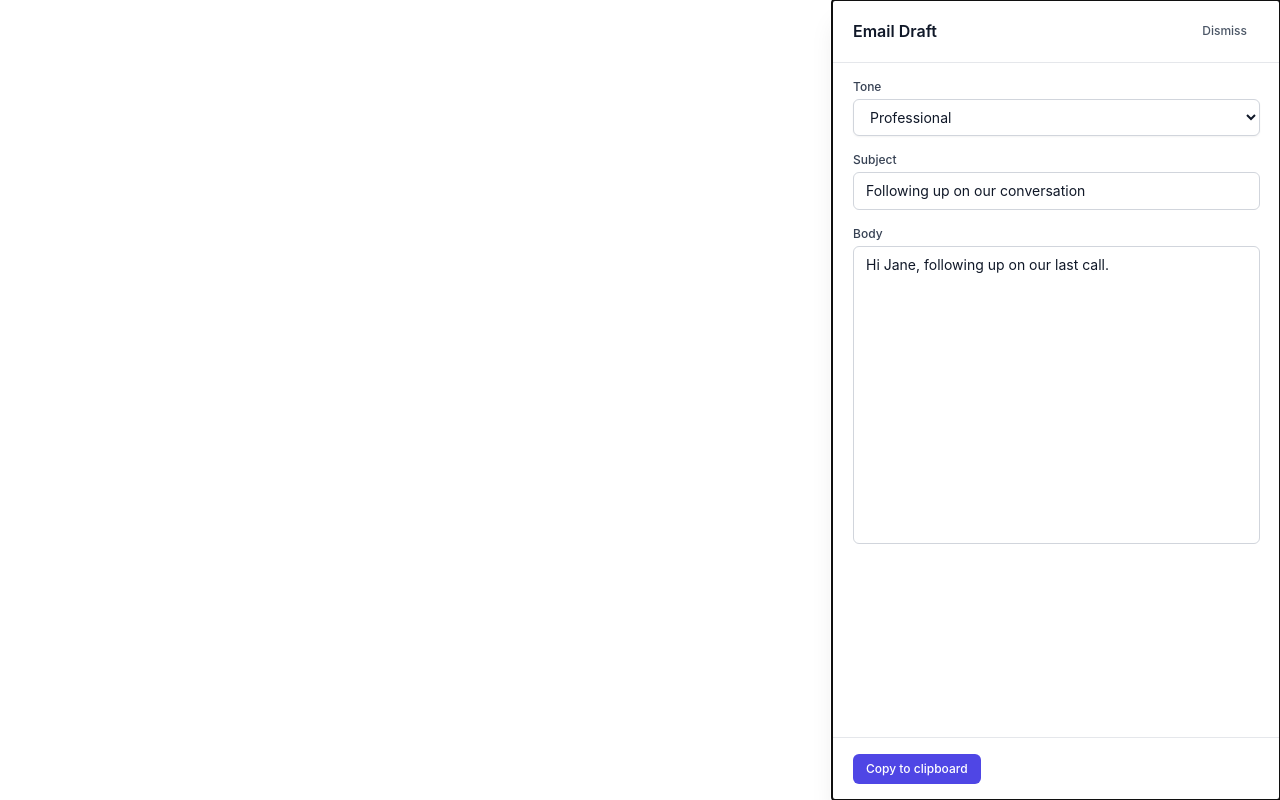
Test: EmailDraftPanel › shows an error when regeneration fails
Select "Concise" in the dropdown with test id "email-draft-tone-select". click: (1056, 118)
box: [853,99,1260,136]
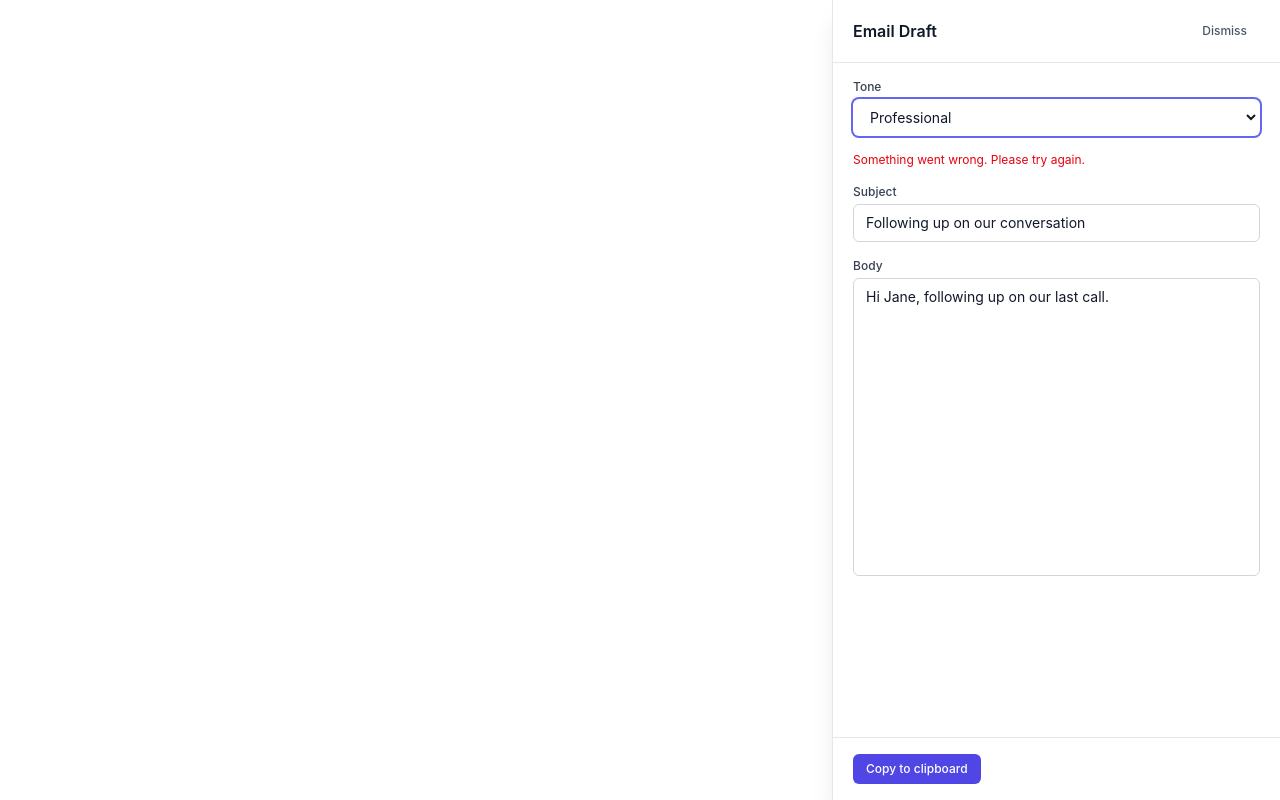
Expected: the field with test id "email-draft-subject" holds "Following up on our conversation", [853,204,1260,242]
Expected: the message "Something went wrong. Please try again." is shown, [853,152,1085,167]
